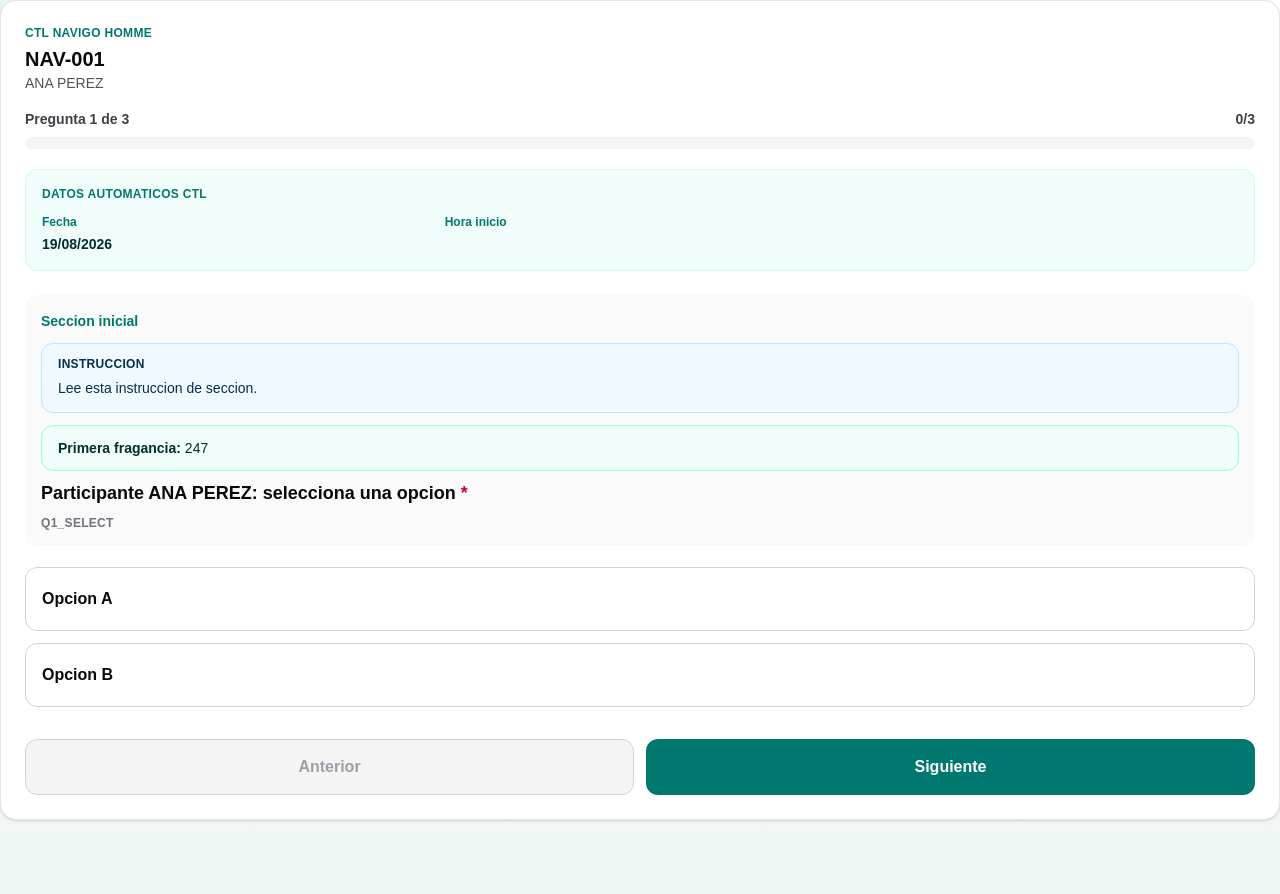
Test: CtlMobileCapture › saves the current question before advancing
The image size is (1280, 894).
Click the button "Opcion A" at (77, 598), box x1=25 y1=567 x2=1255 y2=631
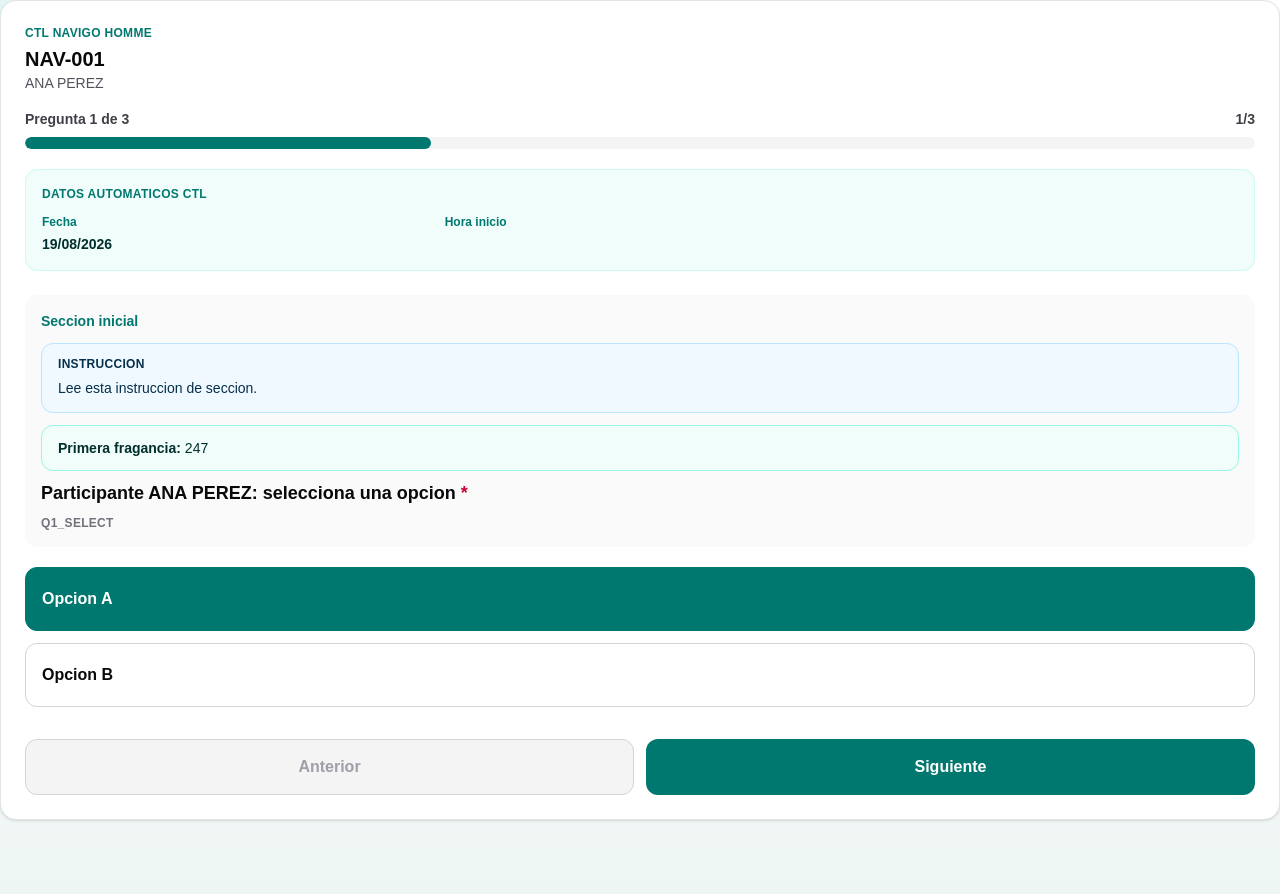
Click the button "Siguiente" at (950, 767), box x1=646 y1=739 x2=1255 y2=795
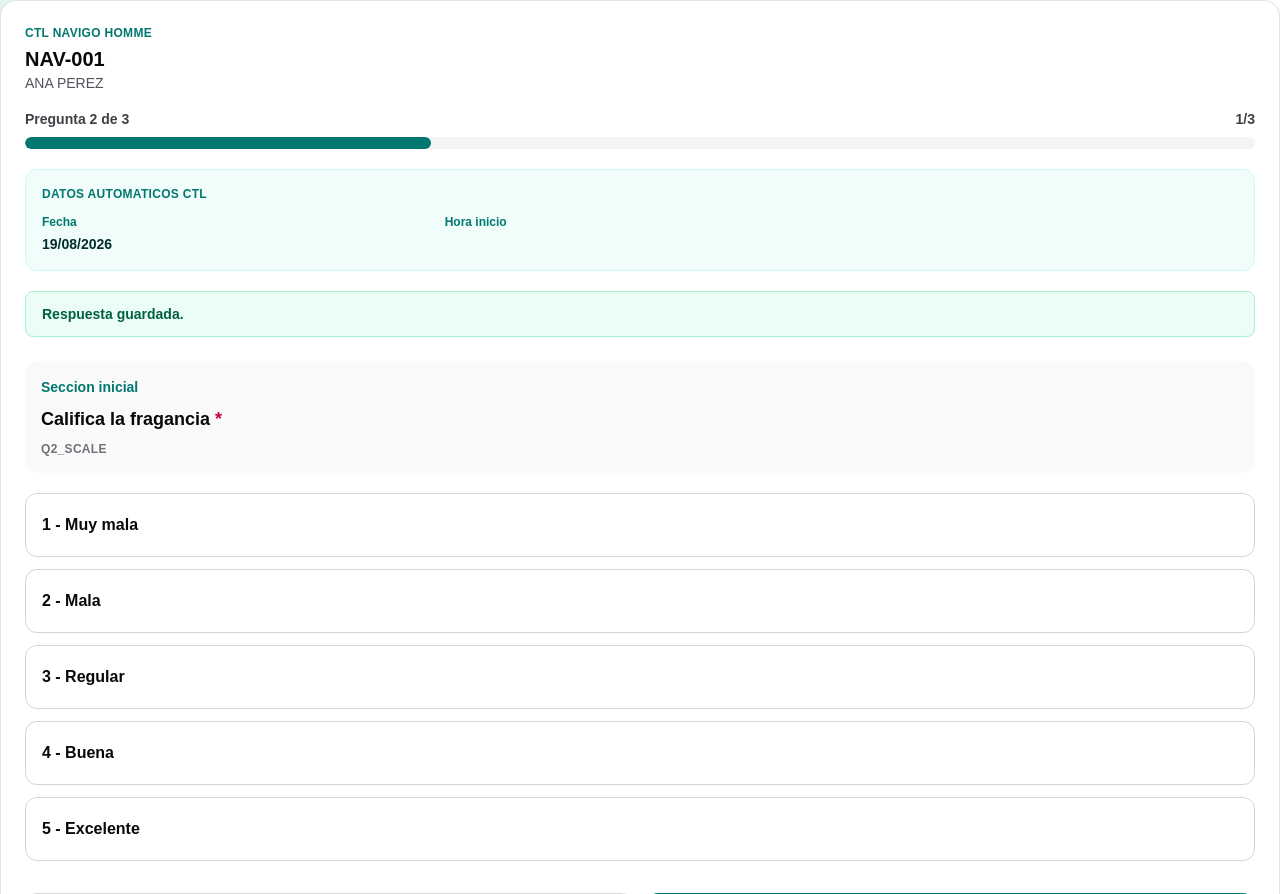
Result: the text "Pregunta 2 de 3" is shown at x1=25 y1=109 x2=129 y2=129
